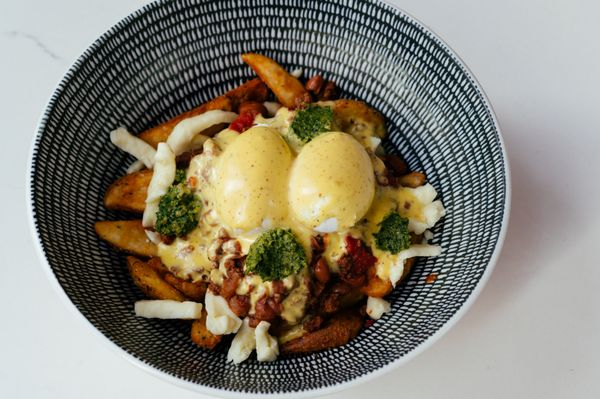curry: (243, 227, 308, 282), (155, 179, 204, 240), (289, 101, 337, 143), (371, 211, 412, 254)
sushi: (14, 0, 512, 390)
